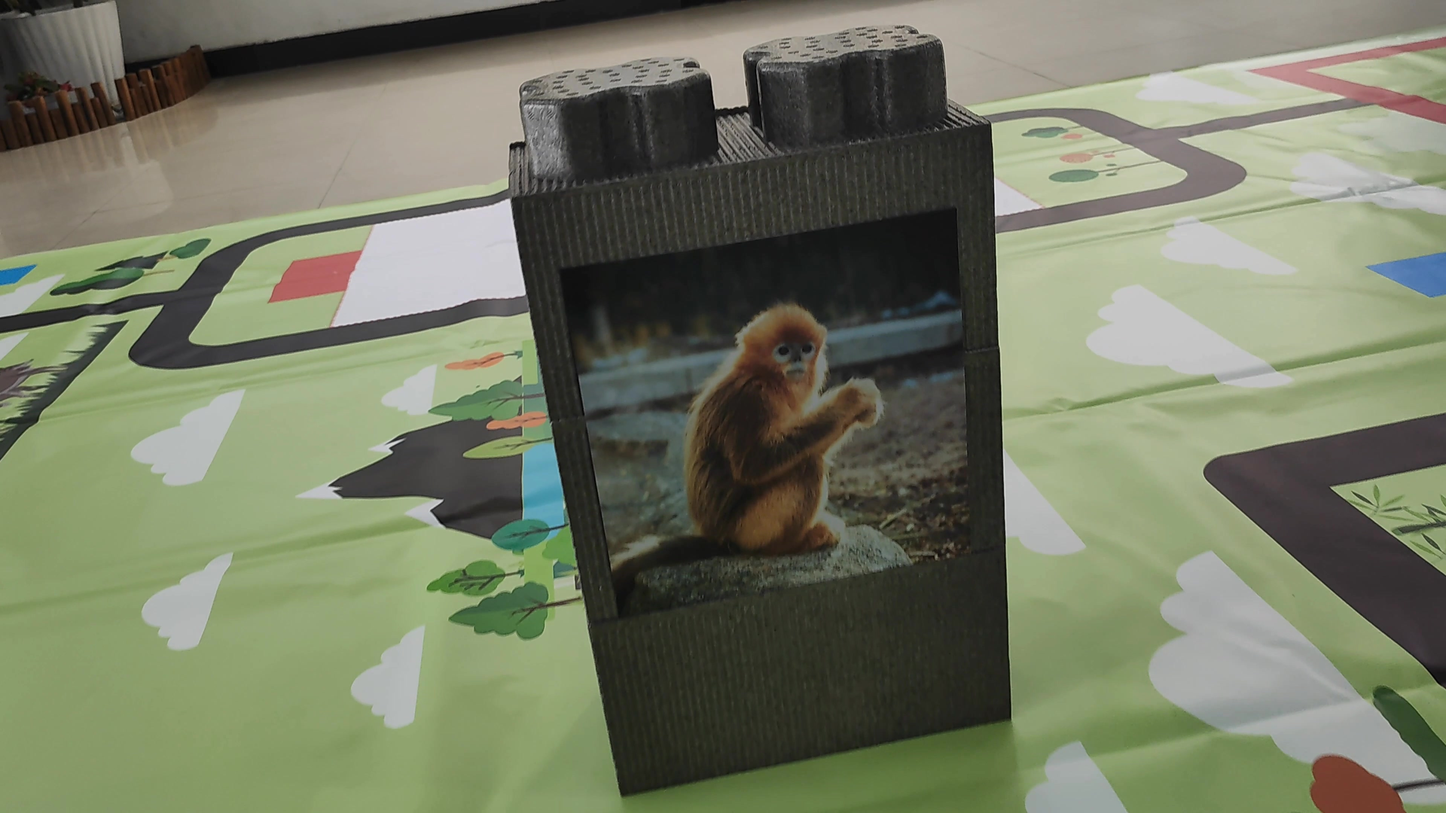monkey: (623, 251, 944, 592)
